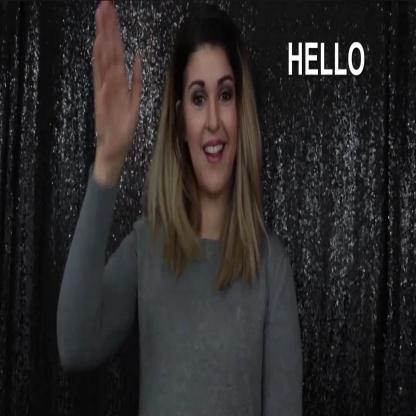Hello: (89, 0, 245, 232)
